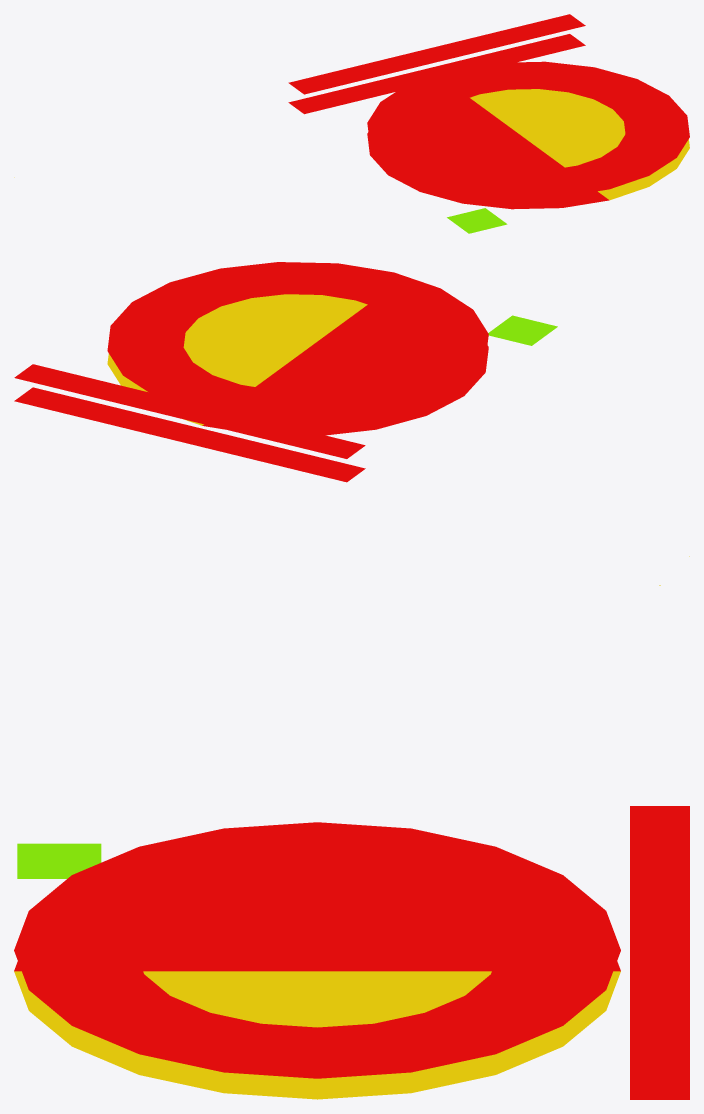
Rendered from OpenPlayer MESH.DAE.
The picture shows the model from 3 angles, top to bottom: view 1: azimuth 30°, elevation 25°; view 2: azimuth 150°, elevation 25°; view 3: azimuth 270°, elevation 25°; orthographic projection. The views are drawn at different scales.
Visible parts, largest first — view 1: Cylinder002, Object002, Plane003, Plane004, Object003; view 2: Cylinder002, Object002, Plane004, Plane003, Object003; view 3: Cylinder002, Object002, Plane003, Object003, Plane004.
Boxes of the visible parts, box(x1,y1,x2,y2) form: Cylinder002: box(367, 61, 689, 197); Object002: box(367, 89, 689, 209); Plane003: box(288, 14, 585, 94); Plane004: box(14, 34, 585, 177); Object003: box(447, 208, 507, 233); Cylinder002: box(107, 262, 488, 423); Object002: box(107, 294, 488, 435); Plane004: box(14, 387, 689, 556); Plane003: box(14, 364, 365, 458); Object003: box(488, 315, 557, 345); Cylinder002: box(14, 822, 620, 1078); Object002: box(14, 873, 620, 1099); Plane003: box(630, 806, 689, 1062); Object003: box(17, 843, 101, 878); Plane004: box(630, 585, 689, 1099).
Size of the model in its own units: 40.02 by 22.21 by 1.33.
